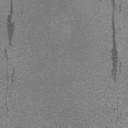red iron: (111, 14, 118, 82), (7, 0, 14, 46), (4, 49, 8, 58), (112, 0, 115, 10), (12, 71, 14, 82)
